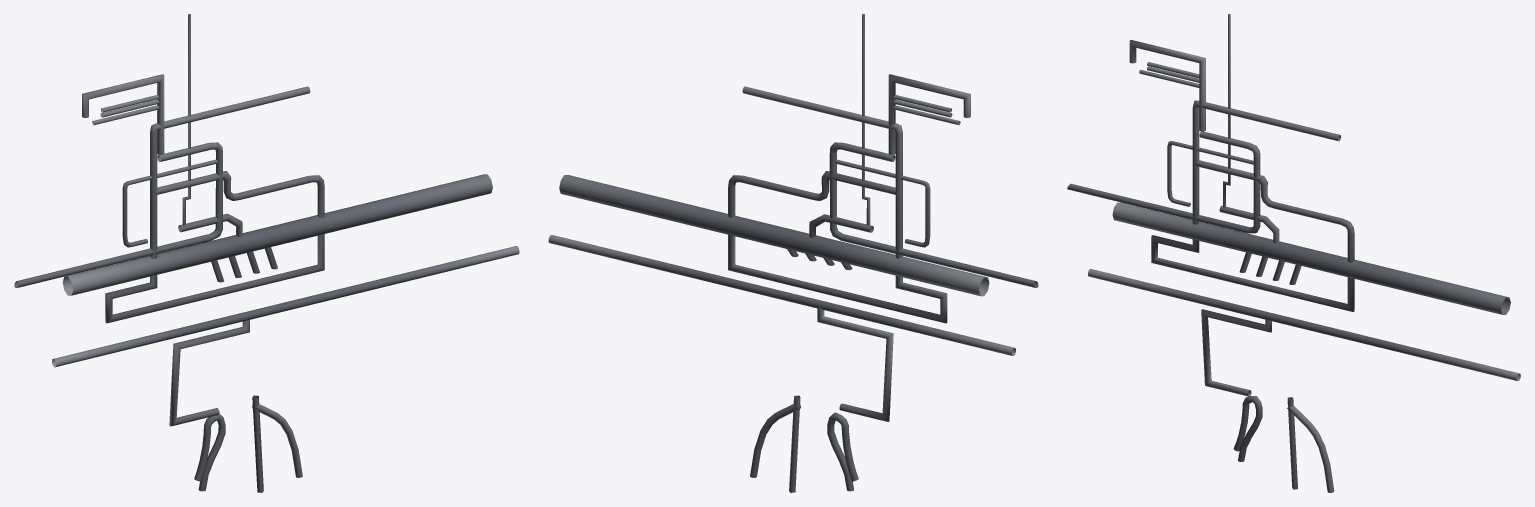
The model's file is BGTubes_Model.fbx.
The picture shows the model from 3 angles, left to right: view 1: azimuth 30°, elevation 25°; view 2: azimuth 150°, elevation 25°; view 3: azimuth 330°, elevation 25°; orthographic projection. The views are drawn at different scales.
Parts seen in each view (by area): view 1: Loft023; view 2: Loft023; view 3: Loft023.
Part boxes in pixels (box(x1,y1,x2,y2)): Loft023: box(14, 14, 519, 492); Loft023: box(548, 14, 1038, 492); Loft023: box(1067, 14, 1520, 492).
Size of the model in its own units: 181 by 173 by 10.07.
